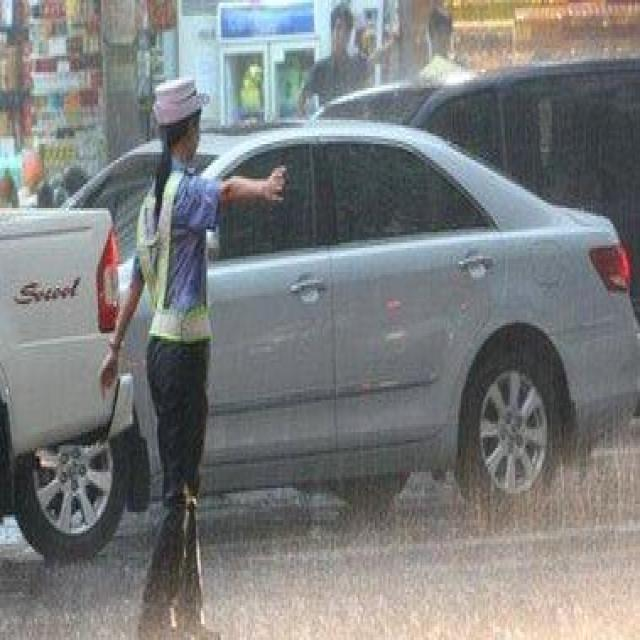car: (9, 117, 638, 555), (297, 56, 638, 413), (0, 202, 133, 512)
